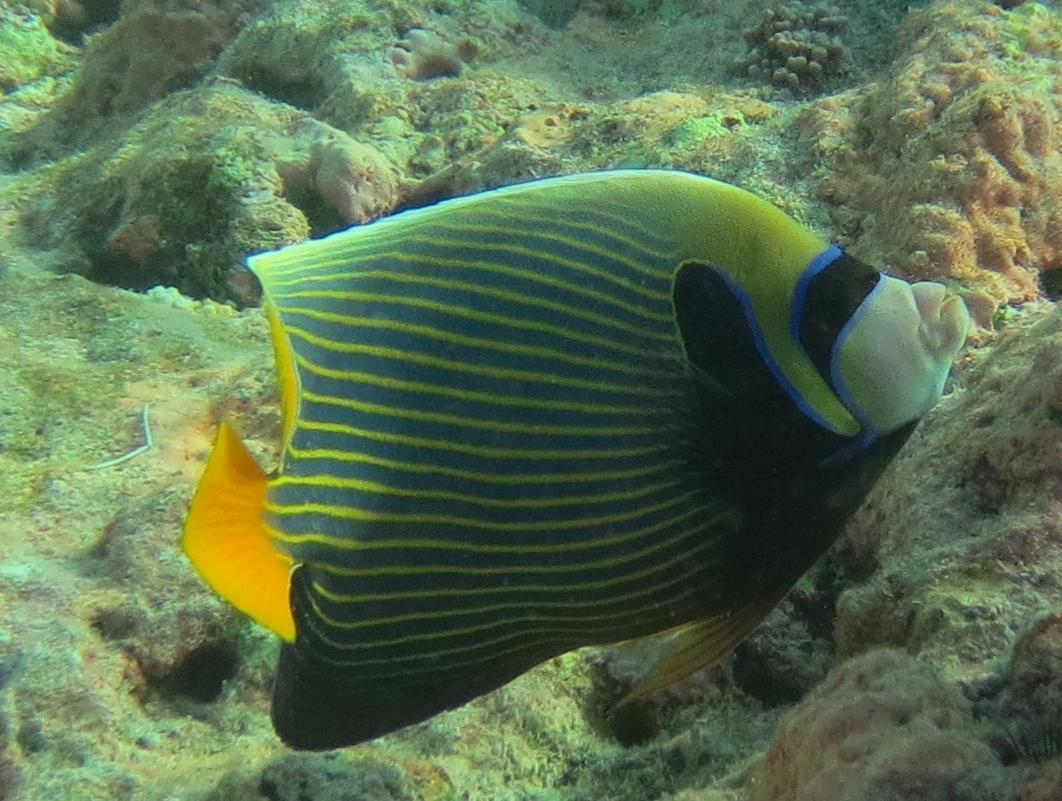Fish: (134, 141, 985, 770)
